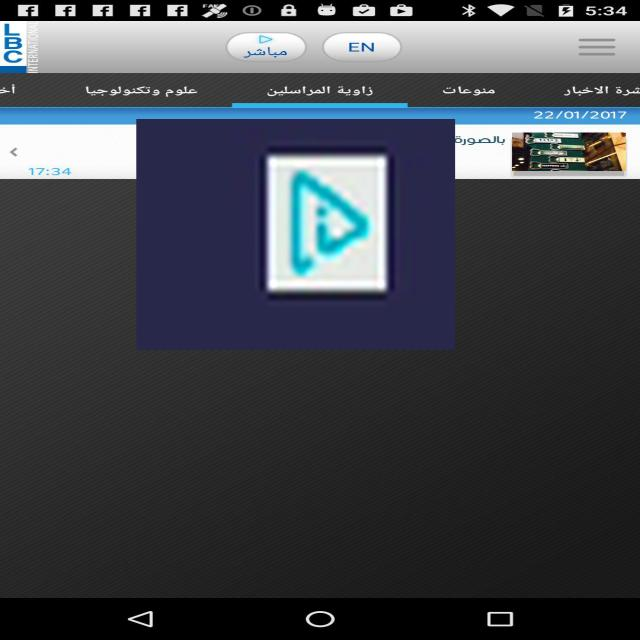sneaking: (136, 119, 455, 350)
